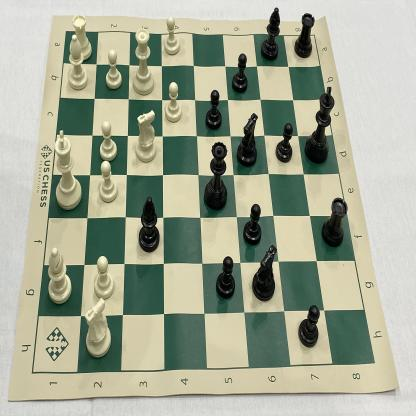black-bishop: (137, 193, 162, 255), (260, 4, 282, 62)
black-king: (303, 83, 335, 166)
black-knight: (251, 241, 280, 304), (236, 110, 260, 170)
black-pawn: (296, 302, 320, 350), (241, 201, 263, 248), (230, 49, 250, 96), (204, 88, 225, 131), (275, 121, 295, 166), (217, 254, 236, 300)
black-queen: (203, 140, 230, 213)
black-rook: (319, 192, 348, 248), (294, 9, 316, 62)
white-bishop: (44, 244, 74, 307), (68, 32, 90, 92)
white-king: (50, 126, 86, 212)
white-knight: (84, 295, 113, 360), (133, 107, 160, 167)
white-pawn: (96, 158, 119, 206), (93, 253, 115, 300), (161, 13, 182, 58), (163, 78, 183, 125), (103, 47, 124, 91), (97, 119, 118, 162)
white-queen: (131, 25, 157, 97)
white-rook: (71, 10, 92, 62)
